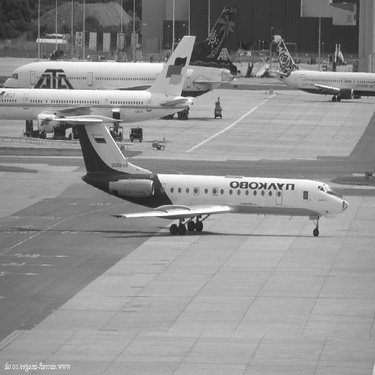airplane: (27, 85, 360, 250), (2, 1, 246, 104), (1, 26, 203, 136), (239, 16, 372, 105)
